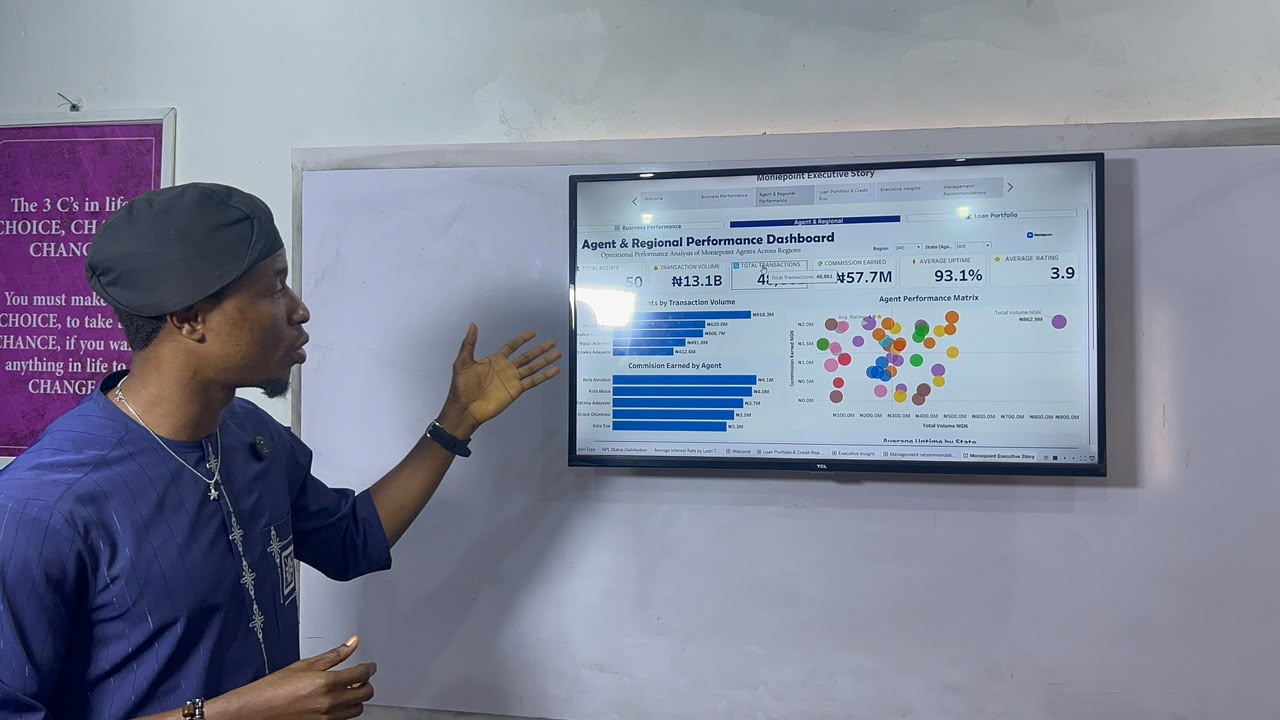

Layout of this report page (visuals, bound fields, positions):
{"tool":"tableau","page":{"name":"Agent & Regional Performance Dashboard","canvas":[1366,1100],"ordinal":0},"visuals":[{"type":"dashboard-object","box":[8,8,447,35]},{"type":"dashboard-object","box":[455,8,468,35]},{"type":"dashboard-object","box":[923,8,435,35]},{"type":"image","param":"Image/images.jpg","box":[1161,41,191,75]},{"type":"text","box":[8,43,1350,72]},{"type":"filter","title":"Agent Performance Matrix","param":"[federated.0p7jy2t1e3he691fx9l5j1cicvz7].[none:Region:nk]","box":[824,92,149,19]},{"type":"filter","title":"Agent Performance Matrix","param":"[federated.0p7jy2t1e3he691fx9l5j1cicvz7].[none:State (Agent!Performance):nk]","box":[977,93,168,18]},{"type":"worksheet","title":"KPI – Total Agents","mark":"Automatic","box":[8,118,225,96]},{"type":"worksheet","title":"KPI - Transaction Volume","mark":"Automatic","box":[233,118,225,96]},{"type":"worksheet","title":"KPI - Total Transactions","mark":"Automatic","box":[458,118,225,96]},{"type":"worksheet","title":"KPI - Commission","mark":"Automatic","box":[683,118,225,96]},{"type":"worksheet","title":"KPI - Average Uptime","mark":"Automatic","box":[908,118,225,96]},{"type":"worksheet","title":"KPI - Average Rating","mark":"Automatic","box":[1133,118,225,96]},{"type":"worksheet","title":"Top 5 Agents by Transaction Volume","mark":"Bar","rows":["Agent_Name"],"cols":["Total_Volume_NGN"],"box":[8,214,604,175.4]},{"type":"worksheet","title":"Agent Performance Matrix","mark":"Circle","rows":["Commission_Earned_NGN"],"cols":["Total_Volume_NGN"],"box":[612,214,746,375.6]},{"type":"worksheet","title":"Commission Earned by Agent","mark":"Automatic","rows":["Agent_Name"],"cols":["Commission_Earned_NGN"],"box":[8,389.4,604,211]},{"type":"worksheet","title":"Average Uptime by State","mark":"Automatic","rows":["State (Agent!Performance)"],"cols":["Uptime_Percent"],"box":[612,590,746,254]},{"type":"worksheet","title":"Regional Transaction Volume","mark":"Automatic","box":[8,600.4,604,359]},{"type":"worksheet","title":"Average Rating by State","mark":"Automatic","rows":["State (Agent!Performance)"],"cols":["Rating"],"box":[612,844.3,746,247.7]},{"type":"worksheet","title":"Active Customers by Region","mark":"Automatic","rows":["Region"],"cols":["Active_Customers"],"box":[8,959.4,604,132.6]}]}

Visuals, with their boxes on the page's 1366x1100 design canvas (x1, y1, x2, y2). These are canvas units, not pixel positions in the 1280x720 screenshot, which may show the page scaled, cropped or inside an application window:
dashboard-object: 8:8:455:43
dashboard-object: 455:8:923:43
dashboard-object: 923:8:1358:43
image: 1161:41:1352:116
text: 8:43:1358:115
"Agent Performance Matrix" filter: 824:92:973:111
"Agent Performance Matrix" filter: 977:93:1145:111
"KPI – Total Agents" worksheet: 8:118:233:214
"KPI - Transaction Volume" worksheet: 233:118:458:214
"KPI - Total Transactions" worksheet: 458:118:683:214
"KPI - Commission" worksheet: 683:118:908:214
"KPI - Average Uptime" worksheet: 908:118:1133:214
"KPI - Average Rating" worksheet: 1133:118:1358:214
"Top 5 Agents by Transaction Volume" worksheet (Bar marks): 8:214:612:389
"Agent Performance Matrix" worksheet (Circle marks): 612:214:1358:590
"Commission Earned by Agent" worksheet: 8:389:612:600
"Average Uptime by State" worksheet: 612:590:1358:844
"Regional Transaction Volume" worksheet: 8:600:612:959
"Average Rating by State" worksheet: 612:844:1358:1092
"Active Customers by Region" worksheet: 8:959:612:1092
